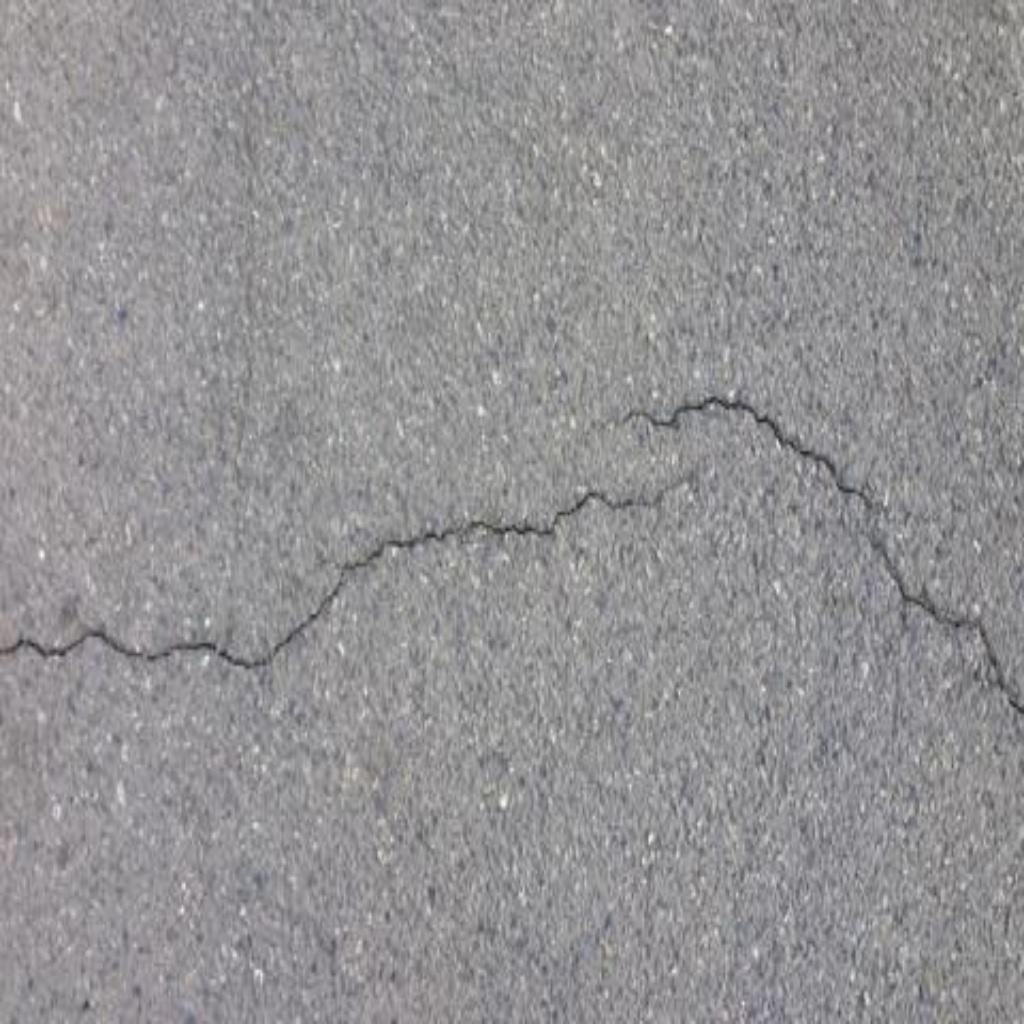Crack: (612, 397, 1024, 715), (1, 478, 691, 667)
